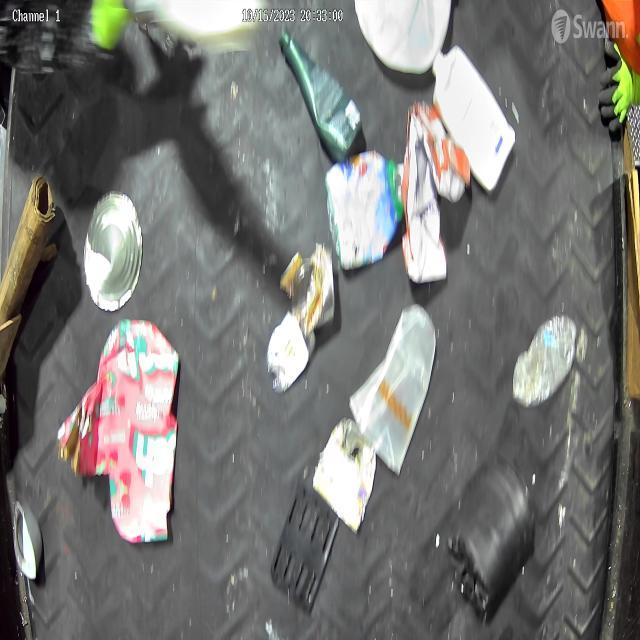can: (12, 496, 43, 580)
plastic_bottle: (512, 310, 578, 408)
